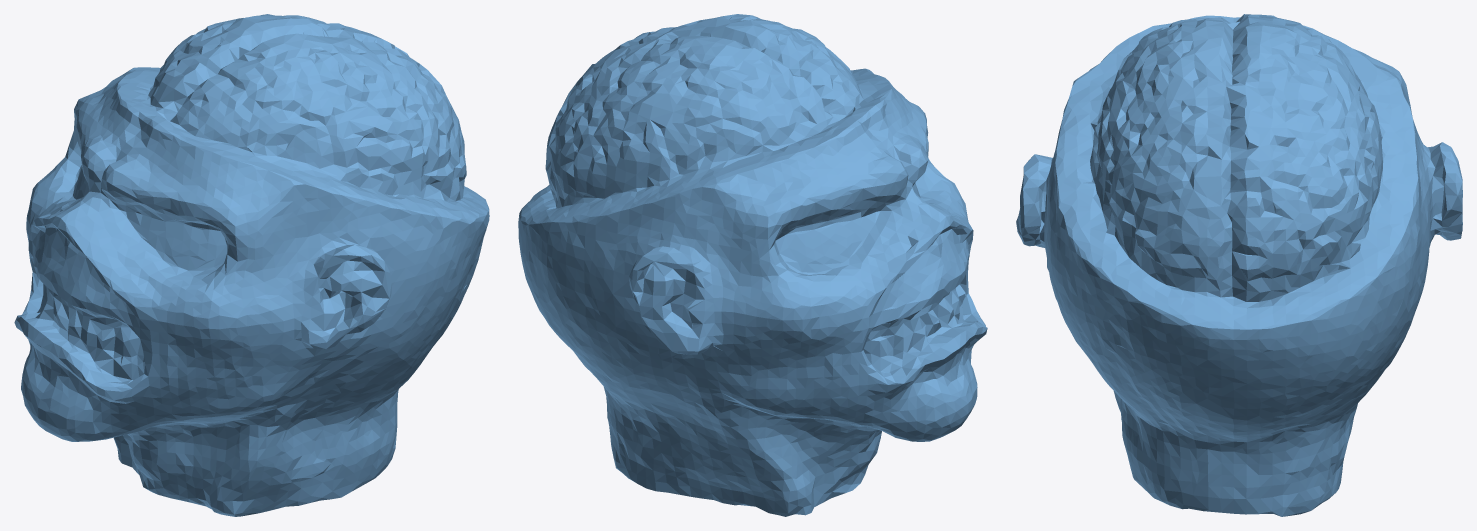
Rendered from zombie_2.glb.
3 renders of one model, left to right at view 1: azimuth 30°, elevation 25°; view 2: azimuth 150°, elevation 25°; view 3: azimuth 270°, elevation 25°, orthographic. The views are drawn at different scales.
Parts seen in each view (by area): view 1: world; view 2: world; view 3: world.
Boxes of the visible parts, x1,y1,x2,y2 form: world: [14, 14, 489, 516]; world: [518, 14, 987, 516]; world: [1016, 14, 1462, 516].
Bounding box in the file's own units: 1.21 × 1.18 × 1.07.
